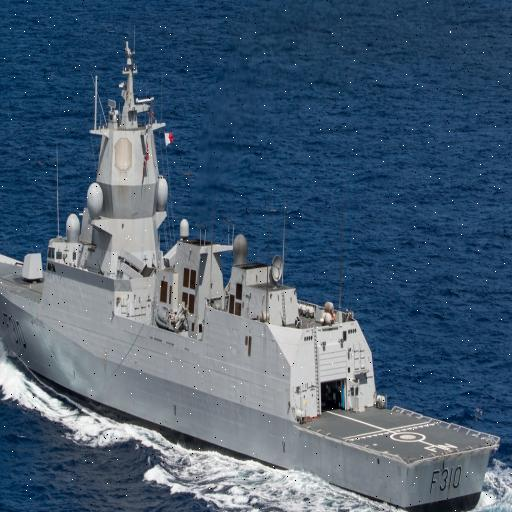Fragata: (1, 27, 498, 512)
